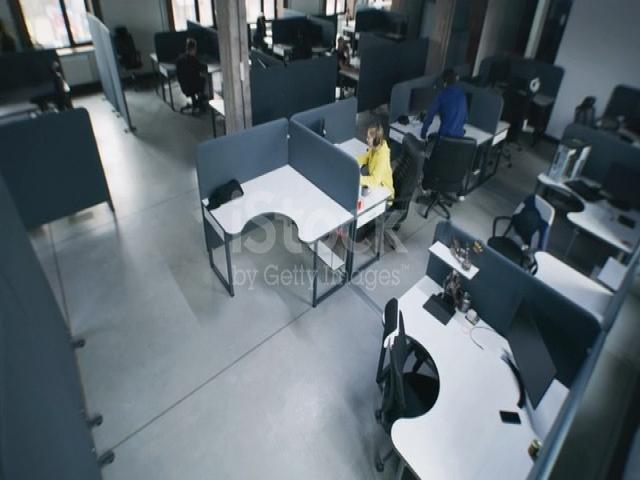empty chair: (358, 279, 446, 465), (492, 179, 552, 279), (426, 121, 479, 228), (502, 67, 547, 161), (570, 84, 634, 143), (114, 17, 148, 90), (42, 59, 78, 115)
occupiedchair: (338, 105, 418, 263), (171, 19, 217, 124), (328, 18, 360, 103)
